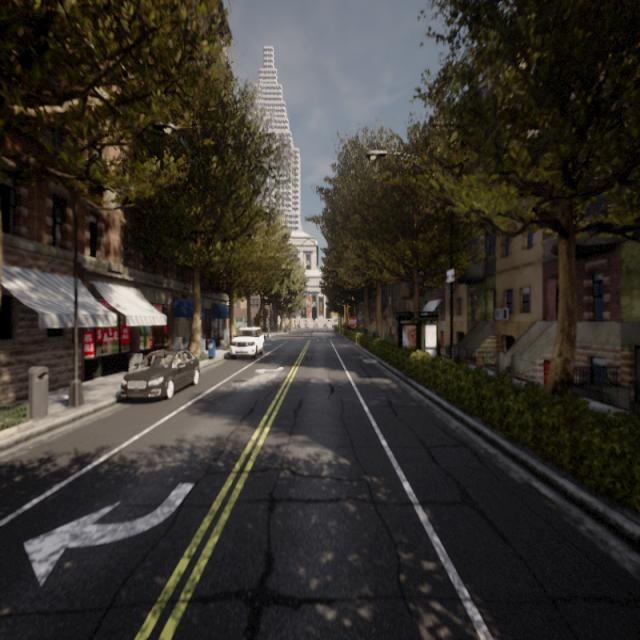stop sign: (344, 310, 364, 338)
